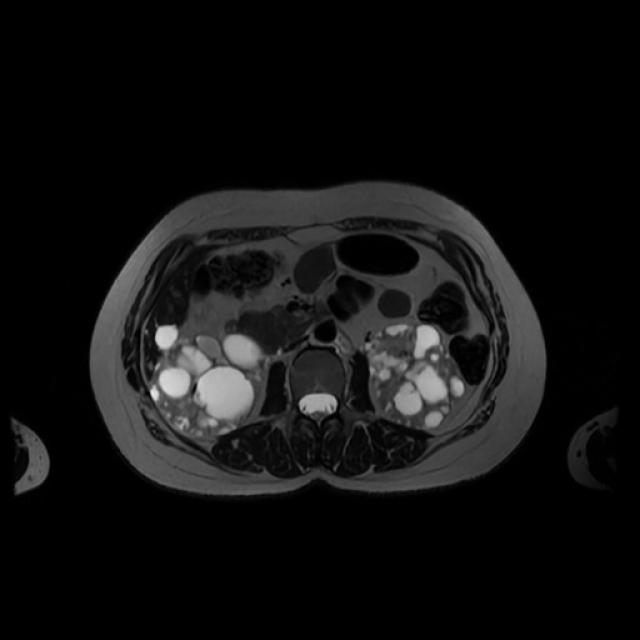sag: (150, 334, 262, 438)
sol: (367, 321, 469, 431)
